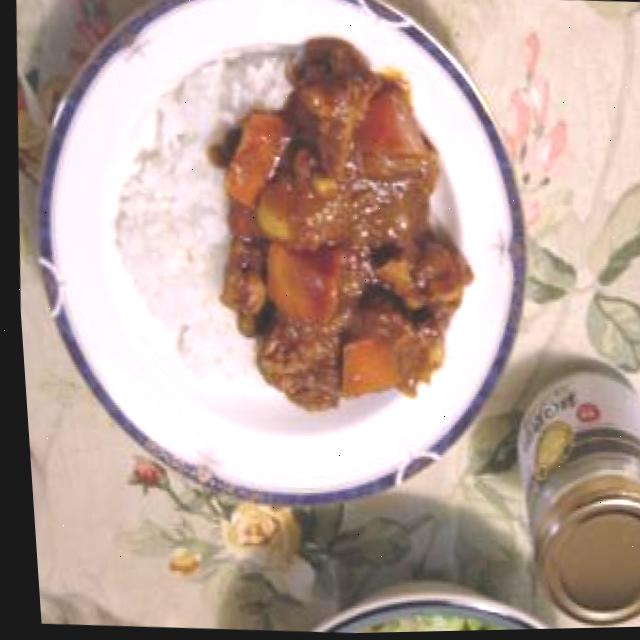牛肉菜式: (8, 0, 546, 528)
